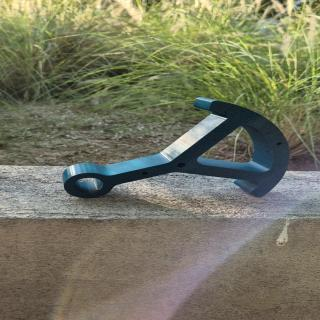haptic: (61, 96, 292, 199)
